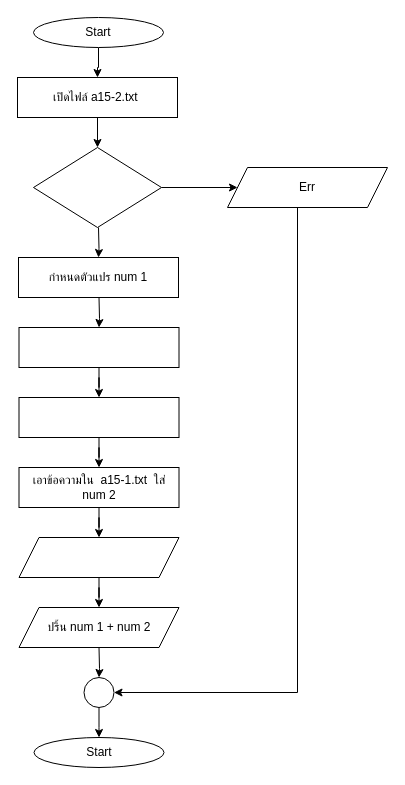
The diagram is 405 pixels wide and 785 high, and some of its shapes have lost their labels. The shapes that lost their labels are listed below. From the top down, each one's box as (x1, y1, x2, y2) in pixels, then its label:
(32, 146, 162, 228): เปิดได้หรือไม่
(18, 326, 179, 368): กำหนดตัวแปร num 2
(18, 396, 179, 438): อ่านไฟล์ a15-2.txt
(18, 536, 179, 578): รับค่า num 2
